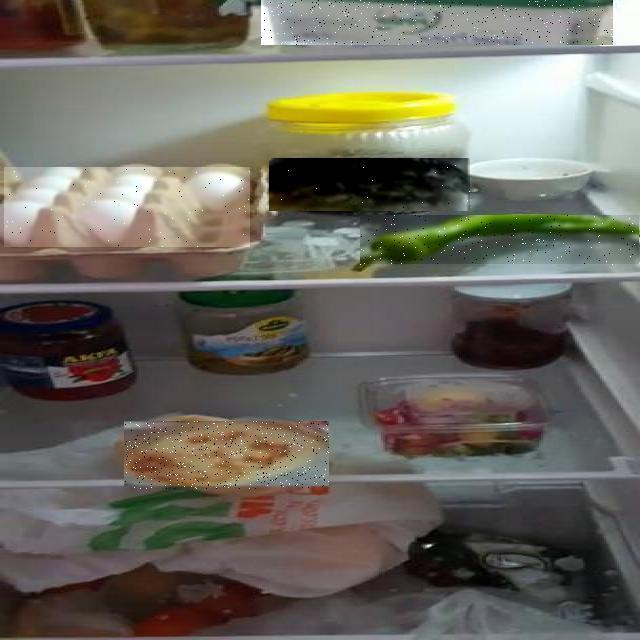egg: (0, 124, 129, 370)
